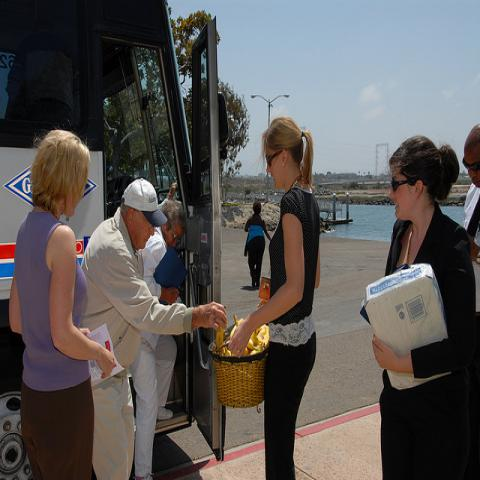bus: (13, 5, 229, 473)
